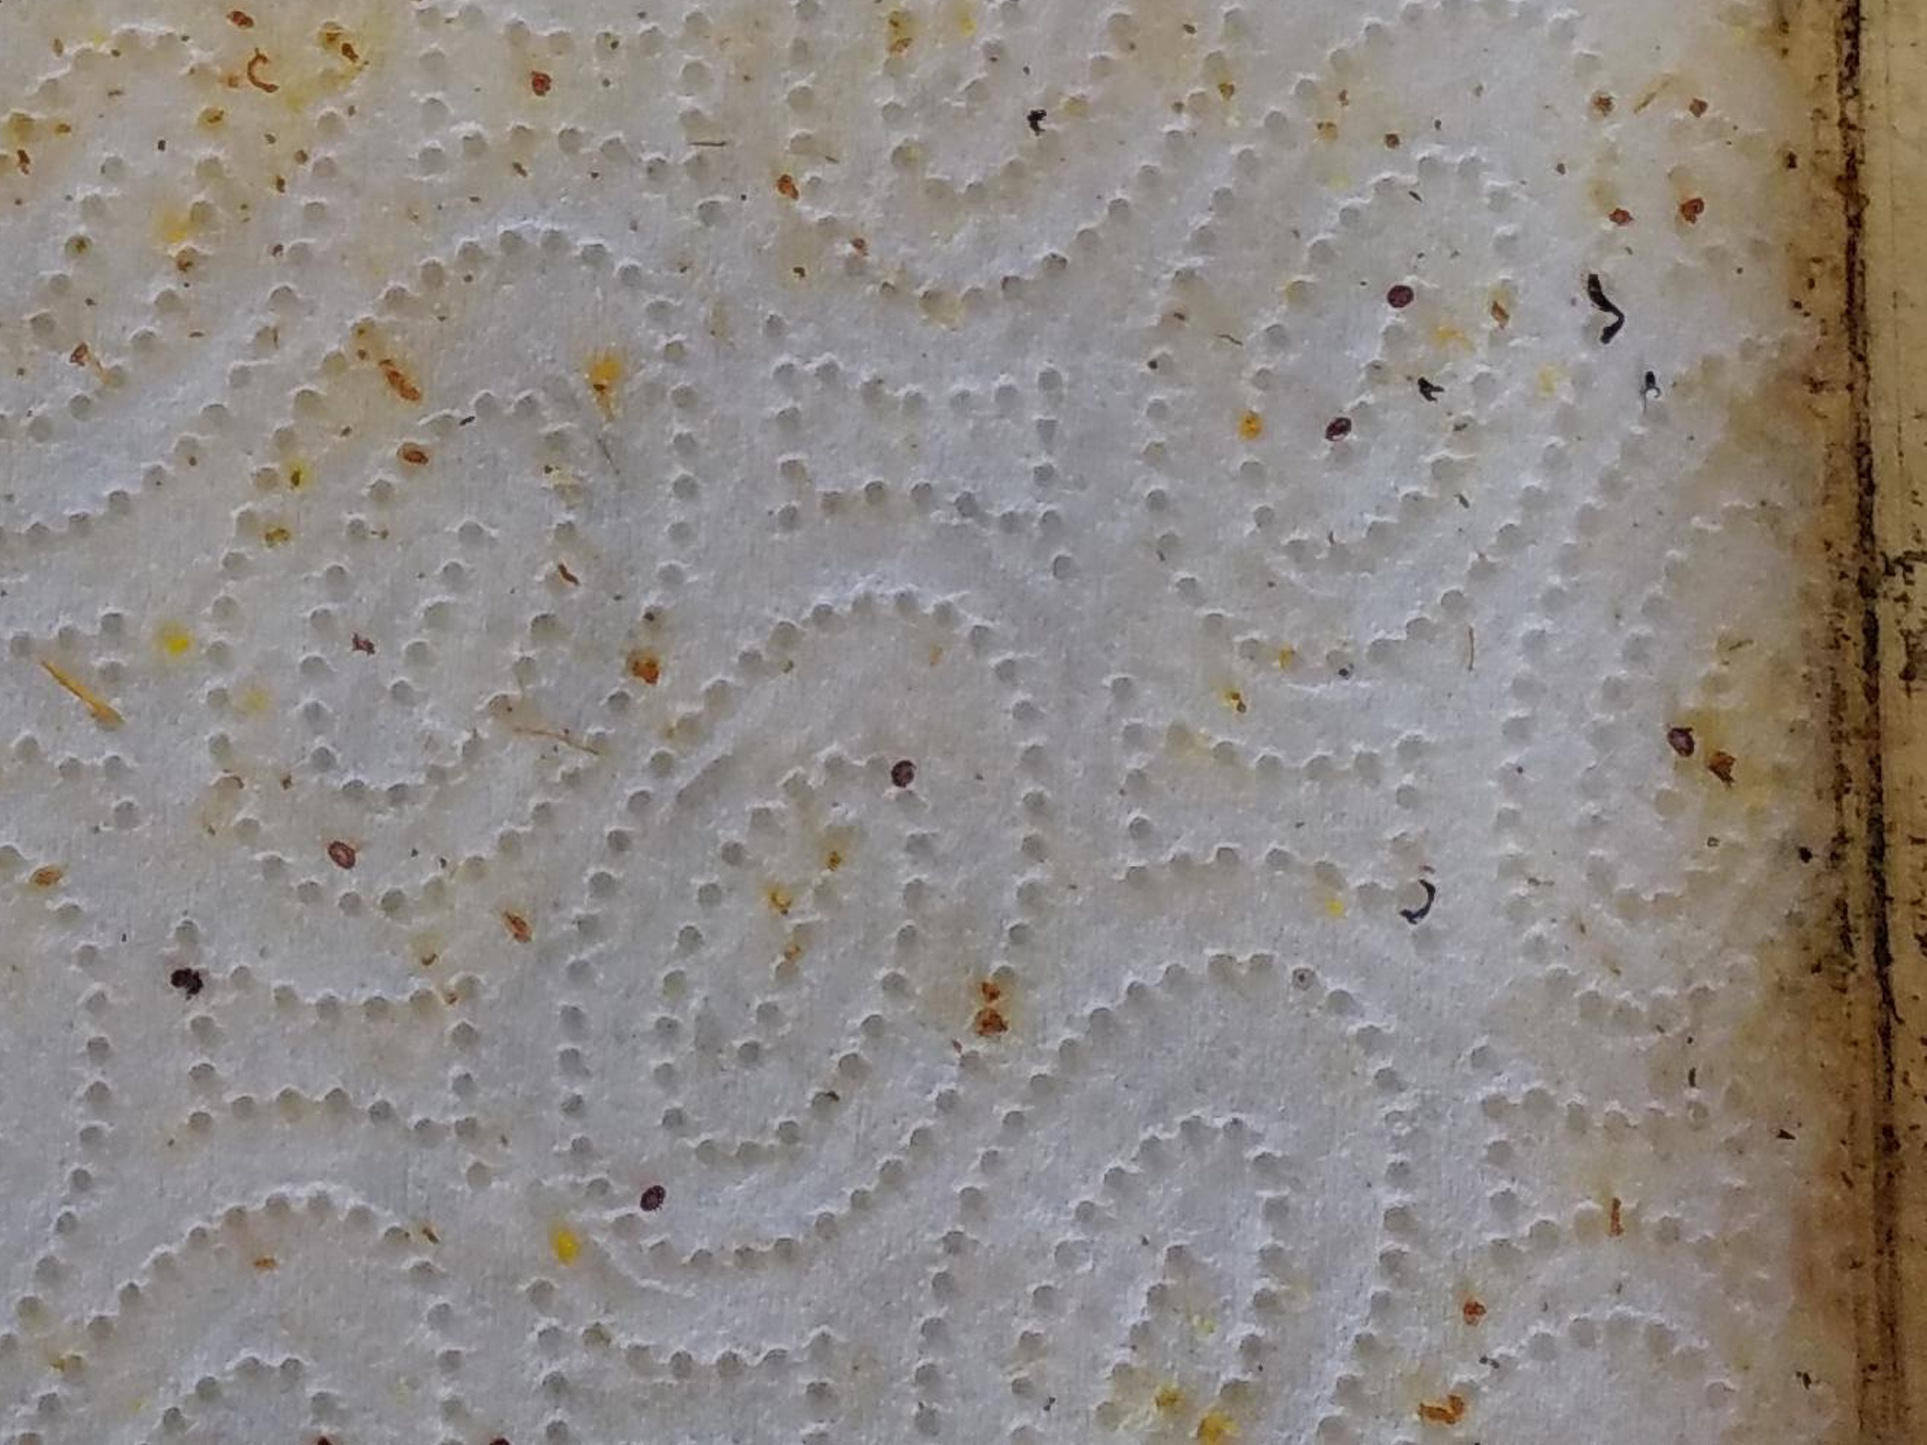Varroa: (1319, 414, 1360, 452), (1385, 273, 1416, 311), (636, 1185, 666, 1217), (325, 839, 355, 870), (888, 756, 916, 786), (1668, 729, 1695, 757)
